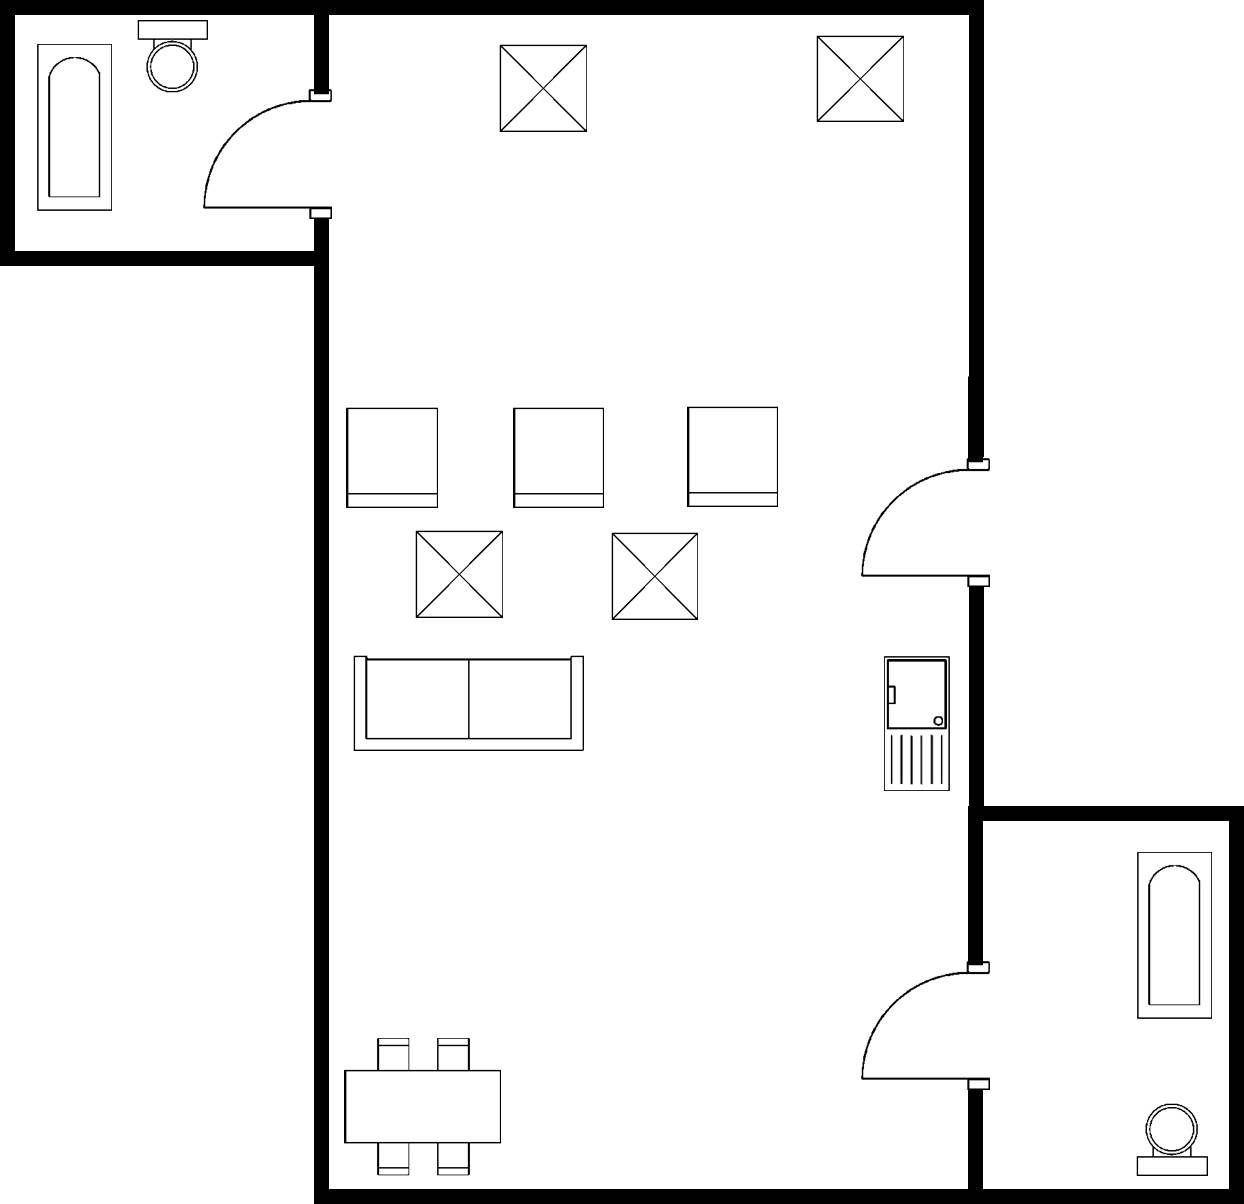coffee_table: (810, 27, 914, 133), (494, 36, 597, 142), (409, 521, 515, 623), (604, 525, 703, 628)
dining_table: (337, 1029, 516, 1182)
large_sink: (1129, 1095, 1216, 1182), (130, 15, 218, 99)
large_sofa: (348, 650, 592, 756)
sink: (877, 650, 956, 800)
small_sofa: (681, 398, 789, 520), (504, 400, 614, 518), (339, 400, 446, 514)
tub: (1125, 841, 1218, 1027), (30, 36, 121, 218)
